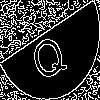Q: (25, 24, 69, 86)
